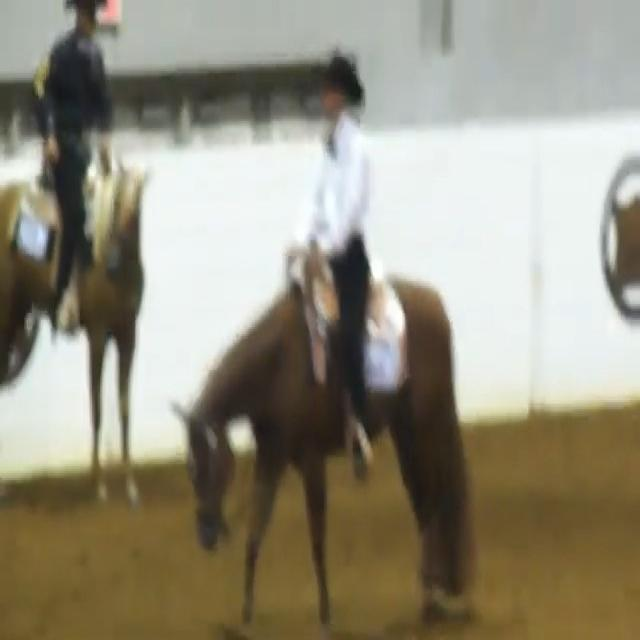horse: (163, 30, 498, 640), (0, 0, 144, 540)
